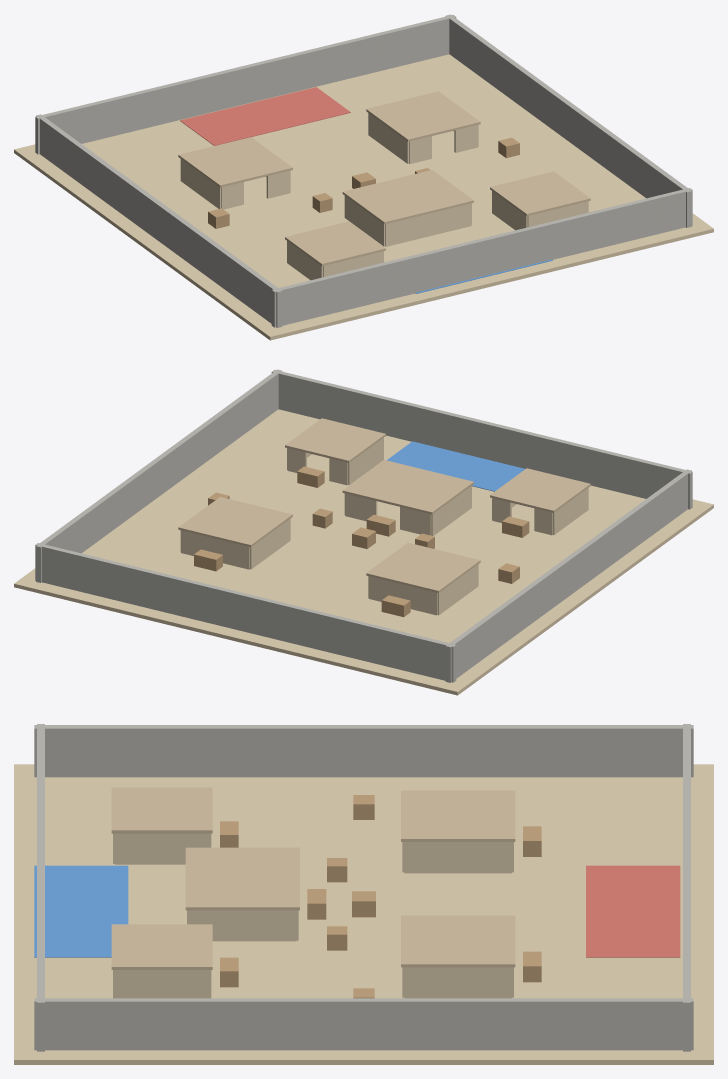
Rendered from map.glb.
3 views of the same model, one above another, from view 1: azimuth 30°, elevation 25°; view 2: azimuth 150°, elevation 25°; view 3: azimuth 270°, elevation 25° (orthographic). The views are drawn at different scales.
Parts seen in each view (by area): view 1: floor, ringS, ringN, ringW, ringE, base_red, hC_roof, hA_roof, hB_roof, hD_roof, hE_roof, hC_nx (+11 smaller); view 2: floor, ringN, ringS, ringW, ringE, hC_roof, hA_roof, hB_roof, base_blue, hE_roof, hD_roof, hA_nx (+9 smaller); view 3: floor, ringE, ringW, base_red, base_blue, hC_roof, hB_roof, hA_roof, hD_roof, hE_roof, hA_nz, hB_nz (+11 smaller).
Boxes of the visible parts, x1,y1,x2,y2 form: floor: (14, 54, 713, 340); ringS: (271, 188, 692, 327); ringN: (35, 14, 456, 154); ringW: (36, 114, 282, 327); ringE: (445, 14, 691, 227); base_red: (180, 87, 350, 145); hC_roof: (342, 170, 473, 224); hA_roof: (178, 137, 292, 187); hB_roof: (366, 91, 480, 141); hD_roof: (285, 221, 385, 266); hE_roof: (490, 171, 590, 215); hC_nx: (385, 203, 471, 246); floor: (14, 409, 713, 695); ringN: (35, 543, 456, 682); ringS: (271, 369, 692, 509); ringW: (445, 469, 691, 682); ringE: (36, 369, 282, 582); hC_roof: (342, 460, 473, 514); hA_roof: (366, 542, 480, 592); hB_roof: (178, 497, 292, 547); base_blue: (387, 441, 524, 491); hE_roof: (285, 418, 385, 462); hD_roof: (490, 468, 590, 512); hA_nx: (368, 576, 437, 615); floor: (14, 764, 713, 1064); ringE: (34, 998, 693, 1050); ringW: (34, 725, 693, 777); base_red: (586, 865, 680, 957); base_blue: (34, 865, 128, 957); hC_roof: (185, 847, 299, 910); hB_roof: (401, 915, 515, 967); hA_roof: (401, 790, 515, 841); hD_roof: (111, 787, 212, 833); hE_roof: (111, 924, 212, 969); hA_nz: (404, 842, 511, 873); hB_nz: (404, 967, 511, 998).
Size of the model in its own units: 52 by 4.4 by 52.
